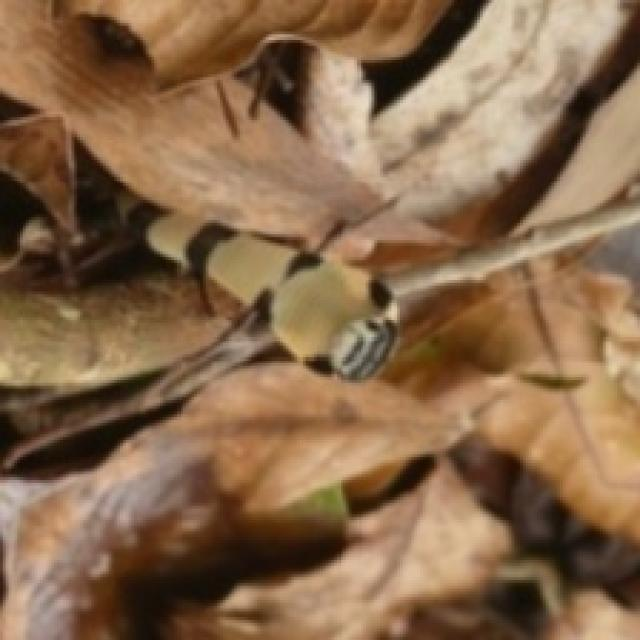king cobra: (206, 231, 394, 377)
